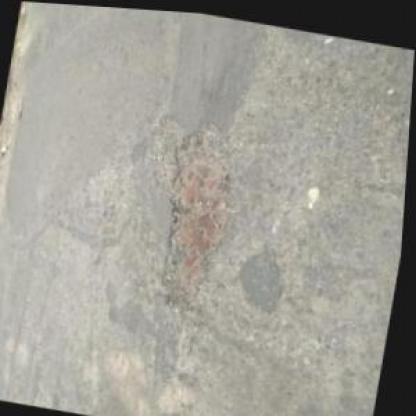pothole: (151, 110, 251, 310)
